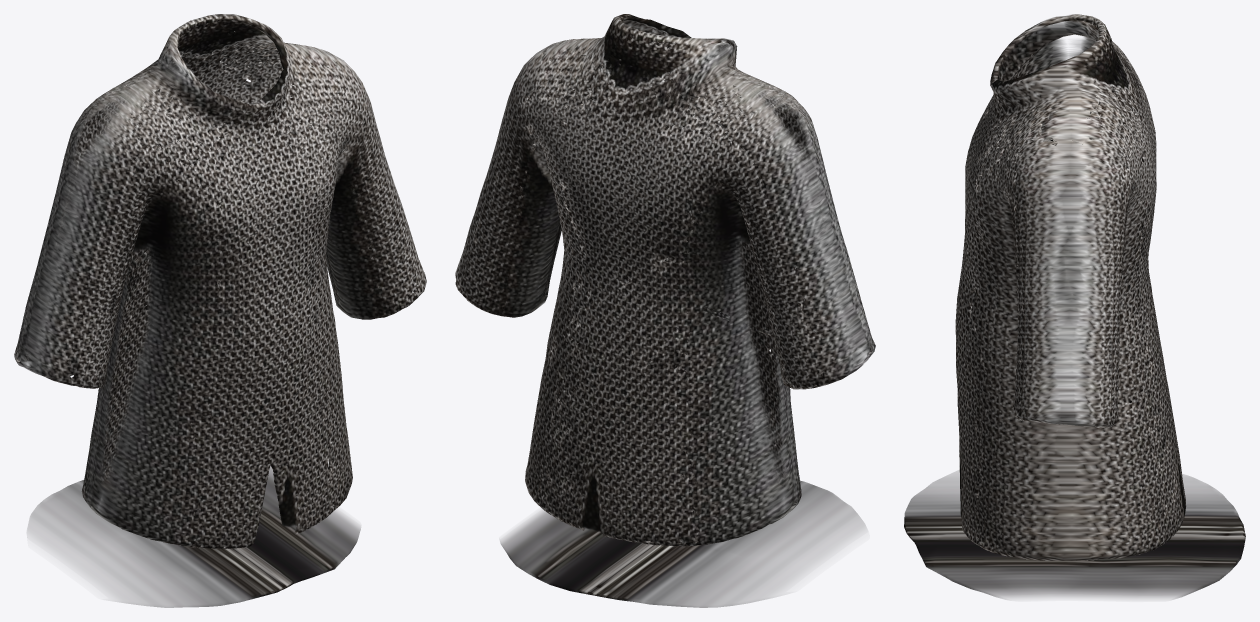
Rendered from cota_malha.glb.
3 renders of one model, left to right at view 1: azimuth 30°, elevation 25°; view 2: azimuth 150°, elevation 25°; view 3: azimuth 270°, elevation 25°, orthographic. The views are drawn at different scales.
Parts seen in each view (by area): view 1: tmpvkxdkn2s.ply; view 2: tmpvkxdkn2s.ply; view 3: tmpvkxdkn2s.ply.
Boxes of the visible parts, box(x1,y1,x2,y2) form: tmpvkxdkn2s.ply: box(14, 14, 426, 607); tmpvkxdkn2s.ply: box(455, 14, 875, 607); tmpvkxdkn2s.ply: box(904, 14, 1245, 599).
Size of the model in its own units: 1.62 by 1.96 by 1.18.
Materials: 1 (1 with a texture image).
